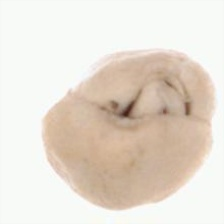L3: (103, 70, 196, 121)
L4: (40, 48, 215, 211)
